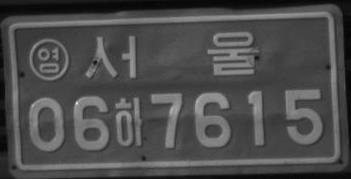0: (27, 97, 65, 152)
1: (241, 90, 275, 146)
5: (284, 86, 323, 145)
6: (193, 91, 232, 149), (72, 94, 110, 151)
7: (149, 92, 183, 148)
서울_D: (84, 30, 259, 80)
영: (28, 38, 70, 82)
하: (113, 96, 144, 146)
